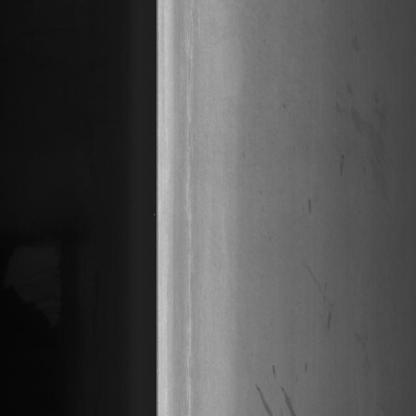water_spot: (249, 343, 302, 414)
